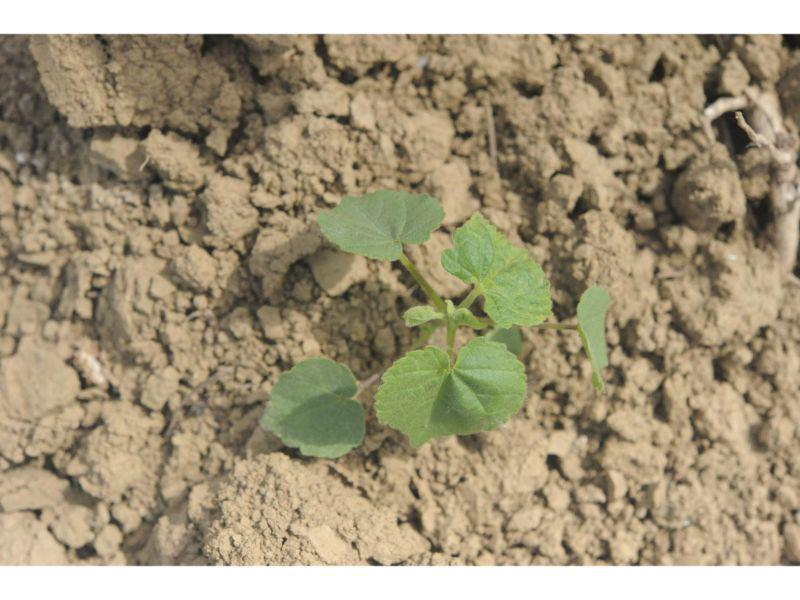velvet: (259, 186, 609, 458)
